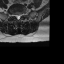CCS_normal: (17, 12, 19, 21)
LFS_normal: (21, 11, 23, 17)
LLS_normal: (19, 12, 21, 20)
RFS_stenosis: (13, 12, 15, 18)
RLS_normal: (15, 12, 17, 20)
